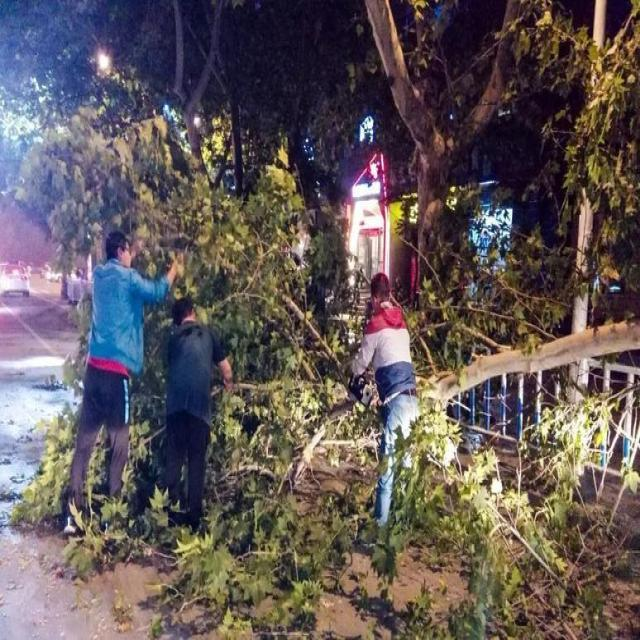fallen_object: (225, 250, 640, 506)
